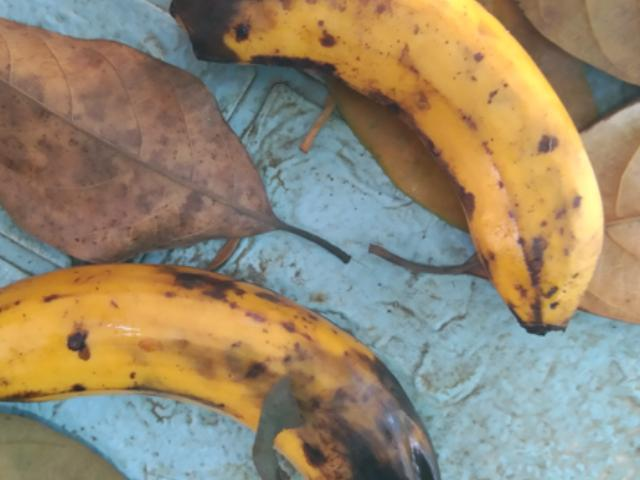overripe: (338, 0, 609, 350), (0, 226, 301, 479)
rotten: (195, 302, 449, 479), (162, 0, 366, 105)
